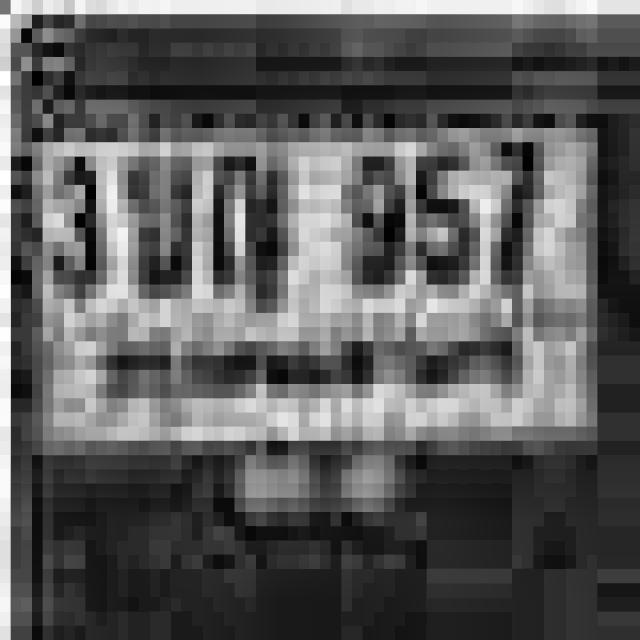license-plate: (23, 98, 610, 519)
